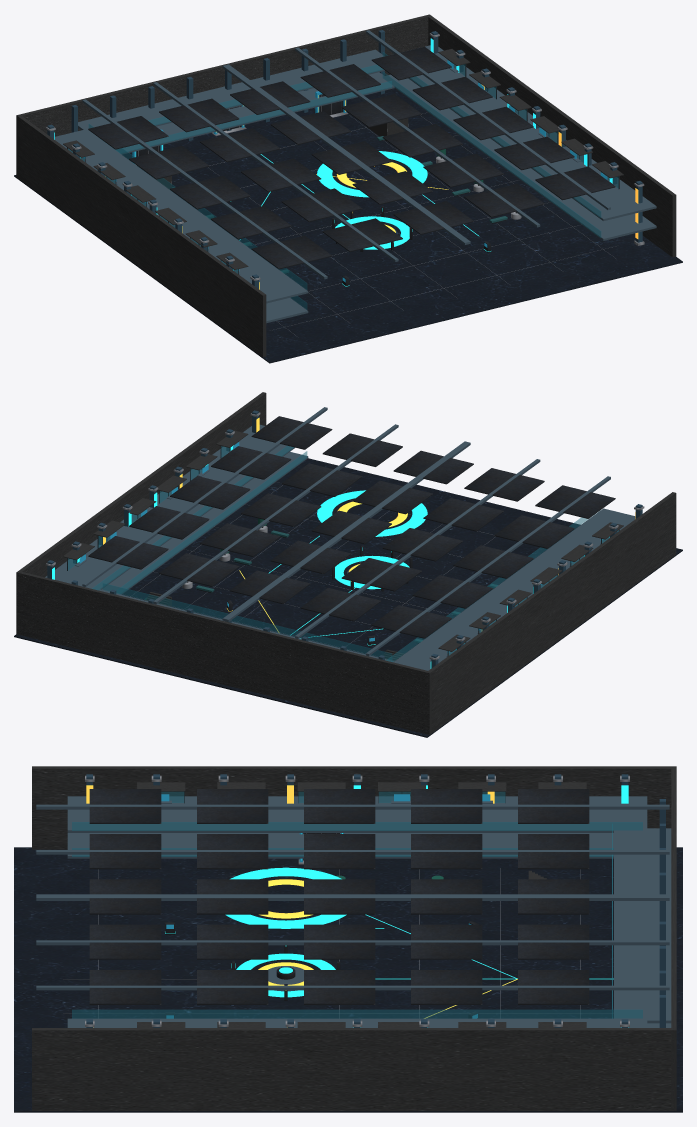
Rendered from orgintel-headquarters-atrium-production.glb.
3 views of the same model, one above another, from view 1: azimuth 30°, elevation 25°; view 2: azimuth 150°, elevation 25°; view 3: azimuth 270°, elevation 25° (orthographic). The views are drawn at different scales.
Visible parts, largest first — view 1: ATRIUM_Floor, ATRIUM_LeftWall, ATRIUM_BackWall, ATRIUM_RightWall, BALCONY_L2_Left_Deck, BALCONY_L2_Right_Deck, BALCONY_L1_Right_Deck, BALCONY_L2_Back_Deck, BALCONY_L1_Back_Deck, CEILING_Spine, BALCONY_L1_Right_GlassRail, BALCONY_L1_Back_GlassRail (+34 smaller); view 2: ATRIUM_BackWall, ATRIUM_Floor, ATRIUM_LeftWall, BALCONY_L2_Left_Deck, ATRIUM_RightWall, BALCONY_L2_Right_Deck, BALCONY_L1_Right_Deck, BALCONY_L2_Back_GlassRail, CEILING_Spine, CEILING_Coffer_-24_-4, CEILING_Coffer_24_-28, CEILING_Coffer_24_44 (+31 smaller); view 3: ATRIUM_Floor, ATRIUM_RightWall, ATRIUM_LeftWall, BALCONY_L2_Left_Deck, BALCONY_L2_Back_Deck, BALCONY_L2_Right_GlassRail, BALCONY_L1_Left_Deck, BALCONY_L2_Left_GlassRail, BALCONY_L2_Right_Deck, CEILING_Spine, CEILING_Beam_-48, CEILING_Beam_24 (+32 smaller).
Boxes of the visible parts, x1,y1,x2,y2 form: ATRIUM_Floor: (14,88,682,363); ATRIUM_LeftWall: (17,115,266,357); ATRIUM_BackWall: (16,14,431,177); ATRIUM_RightWall: (428,16,676,257); BALCONY_L2_Left_Deck: (55,130,308,303); BALCONY_L2_Right_Deck: (408,45,656,221); BALCONY_L1_Right_Deck: (382,74,656,240); BALCONY_L2_Back_Deck: (78,49,384,139); BALCONY_L1_Back_Deck: (102,72,394,154); CEILING_Spine: (222,64,470,244); BALCONY_L1_Right_GlassRail: (382,72,601,237); BALCONY_L1_Back_GlassRail: (116,81,392,153); ATRIUM_BackWall: (16,571,431,734); ATRIUM_Floor: (14,458,682,737); ATRIUM_LeftWall: (428,492,676,733); BALCONY_L2_Left_Deck: (393,508,635,670); ATRIUM_RightWall: (19,392,266,577); BALCONY_L2_Right_Deck: (45,424,294,590); BALCONY_L1_Right_Deck: (102,452,308,594); BALCONY_L2_Back_GlassRail: (102,583,392,659); CEILING_Spine: (222,441,470,621); CEILING_Coffer_-24_-4: (382,528,462,561); CEILING_Coffer_24_-28: (200,523,280,556); CEILING_Coffer_24_44: (322,433,402,466); ATRIUM_Floor: (14,847,682,1112); ATRIUM_RightWall: (32,1028,673,1110); ATRIUM_LeftWall: (32,766,673,849); BALCONY_L2_Left_Deck: (67,796,647,832); BALCONY_L2_Back_Deck: (614,828,671,1023); BALCONY_L2_Right_GlassRail: (72,1009,642,1018); BALCONY_L1_Left_Deck: (67,833,613,858); BALCONY_L2_Left_GlassRail: (72,822,642,830); BALCONY_L2_Right_Deck: (67,1018,647,1027); CEILING_Spine: (36,894,669,900); CEILING_Beam_-48: (36,804,669,809); CEILING_Beam_24: (36,940,669,945).
Bounding box in the file's own units: 140 × 20.91 × 150.
15 materials, 4 textured.
